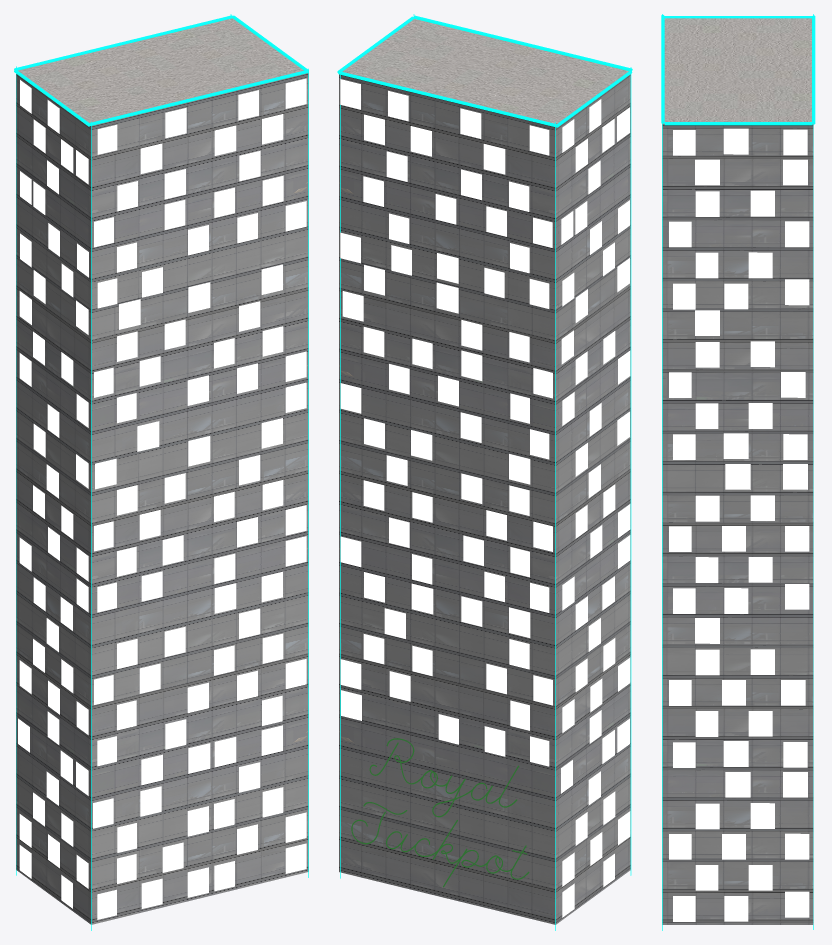
The model's file is Building-3.fbx.
The picture shows the model from 3 angles, left to right: view 1: azimuth 30°, elevation 25°; view 2: azimuth 150°, elevation 25°; view 3: azimuth 270°, elevation 25°; orthographic projection.
Visible parts, largest first — view 1: building_037, Cylinder.034, Cylinder.035, Cylinder.031, Cylinder.030, Cylinder.033; view 2: building_037, Text.002, Cylinder.030, Cylinder.035, Cylinder.034, Cylinder.033, Cylinder.032; view 3: building_037, Cylinder.031, Cylinder.032, Plane.1022, Plane.746, Plane.747, Plane.884, Plane.885, Plane.996, Plane.1009, Plane.1010, Plane.745 (+54 smaller).
Part boxes in pixels (x1,y1,x2,y2): building_037: [16, 18, 308, 924]; Cylinder.034: [89, 70, 308, 125]; Cylinder.035: [14, 15, 232, 70]; Cylinder.031: [308, 68, 308, 877]; Cylinder.030: [91, 121, 91, 930]; Cylinder.033: [16, 66, 16, 875]; building_037: [339, 19, 630, 924]; Text.002: [351, 738, 529, 887]; Cylinder.030: [630, 67, 631, 875]; Cylinder.035: [338, 71, 556, 127]; Cylinder.034: [413, 15, 632, 70]; Cylinder.033: [555, 122, 555, 930]; Cylinder.032: [340, 69, 340, 878]; building_037: [662, 18, 813, 924]; Cylinder.031: [662, 120, 662, 930]; Cylinder.032: [813, 119, 813, 929]; Plane.1022: [723, 128, 748, 154]; Plane.746: [723, 741, 748, 766]; Plane.747: [725, 772, 750, 797]; Plane.884: [723, 433, 748, 458]; Plane.885: [725, 464, 750, 489]; Plane.996: [783, 129, 807, 155]; Plane.1009: [783, 159, 807, 185]; Plane.1010: [695, 159, 719, 185]; Plane.745: [785, 891, 809, 917].
Size of the model in its own units: 1529 by 5344 by 936.
Materials: 6 (2 with a texture image).
